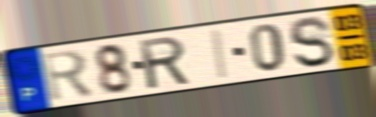0: (248, 22, 287, 75)
8: (95, 42, 133, 96)
I: (211, 27, 231, 82)
R: (40, 48, 97, 105), (136, 34, 192, 92)
S: (287, 15, 337, 70)
